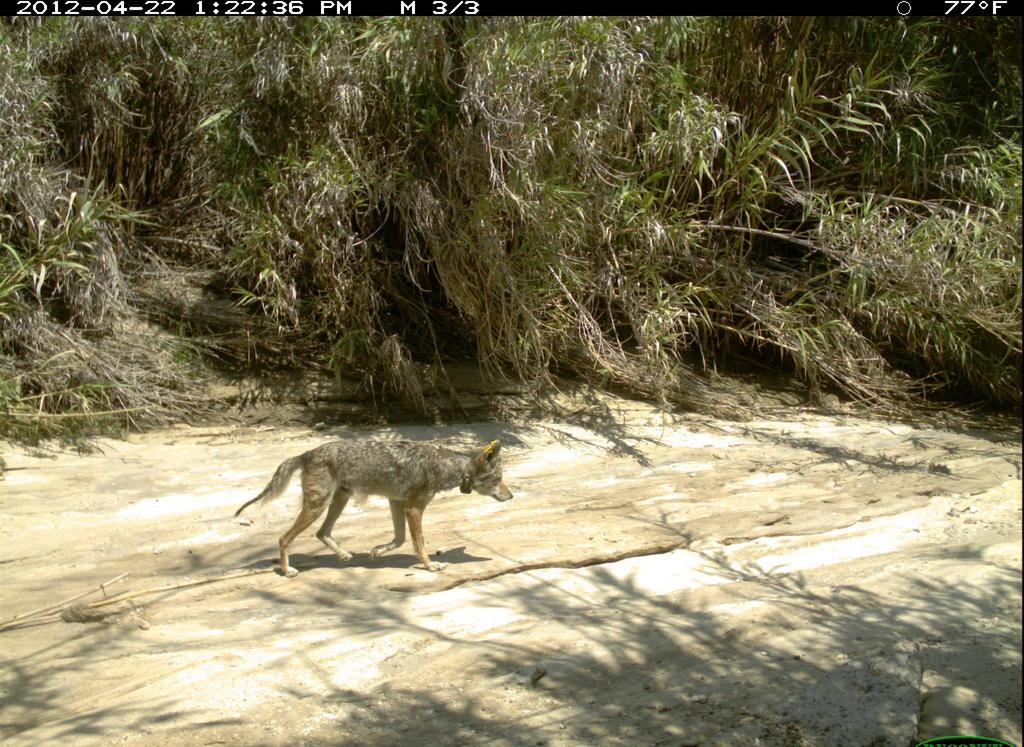coyote: (230, 431, 530, 582)
